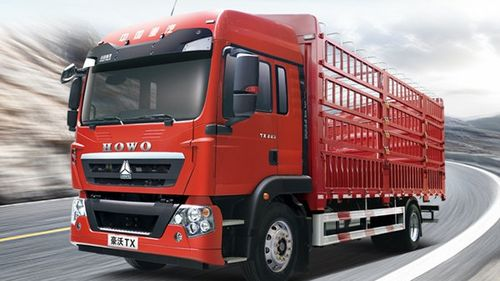卡车: (58, 3, 449, 281)
